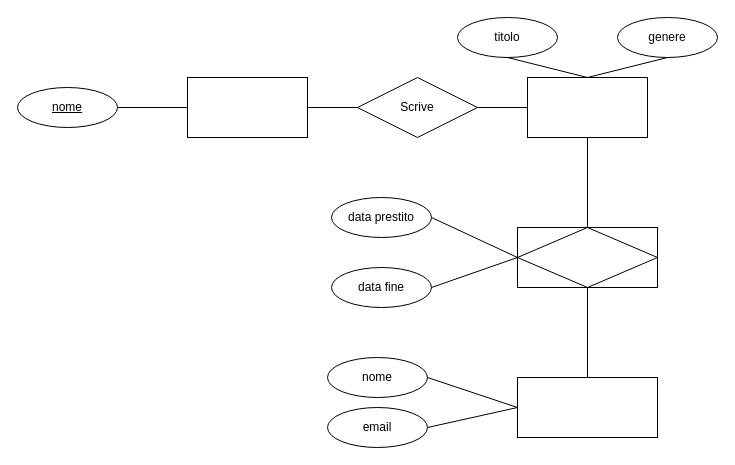
Image size: 735x465. Some labels were removed from this diagram. Each missing label, with the centre of its shape:
Autore: point 247,107
Cliente: point 587,407
Libro: point 587,107
Prestito: point 587,257
